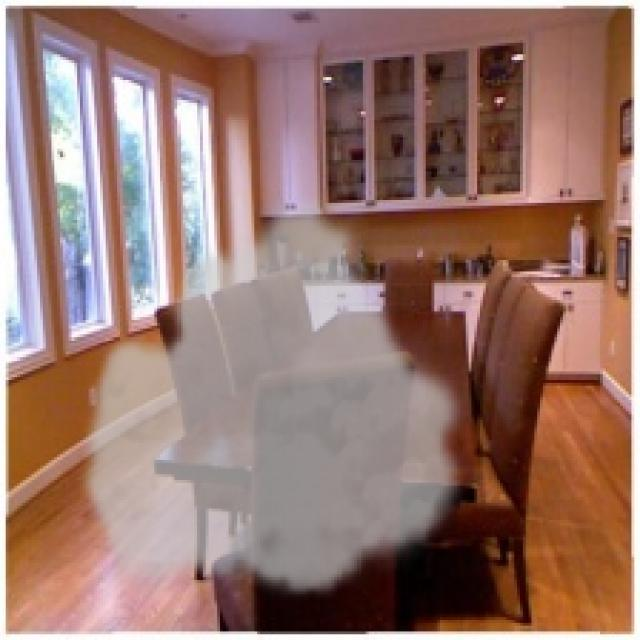Smoke: (77, 191, 474, 600)
